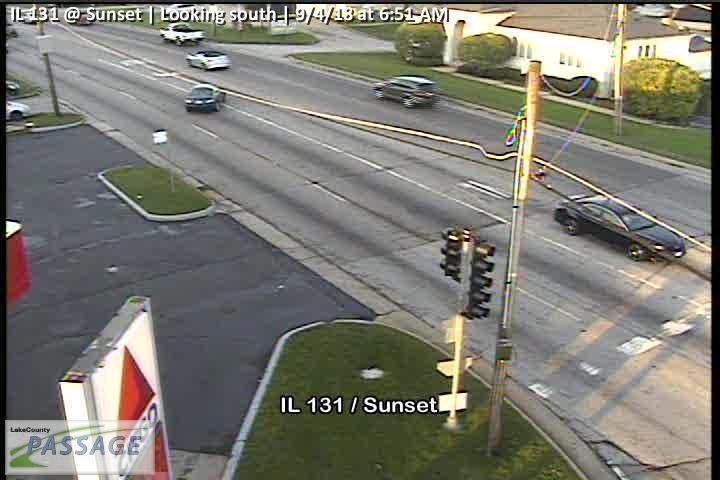SUV: (374, 76, 438, 108)
Sedan: (552, 191, 686, 261), (183, 83, 224, 112), (185, 49, 232, 71)
Truck: (159, 21, 204, 47)
